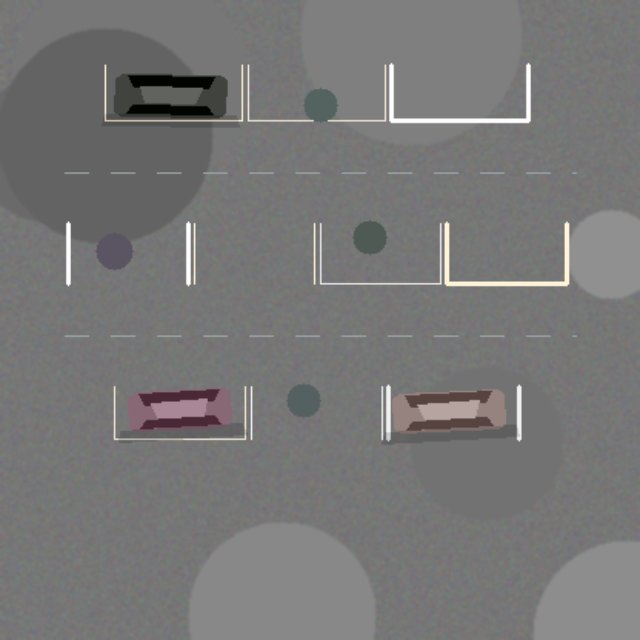space-empty: (248, 65, 385, 120), (391, 65, 528, 120), (68, 223, 188, 283), (194, 223, 314, 283), (320, 223, 440, 283), (446, 223, 566, 283), (251, 386, 382, 438)
space-occupied: (105, 65, 242, 120), (114, 386, 245, 438), (388, 386, 518, 438)
